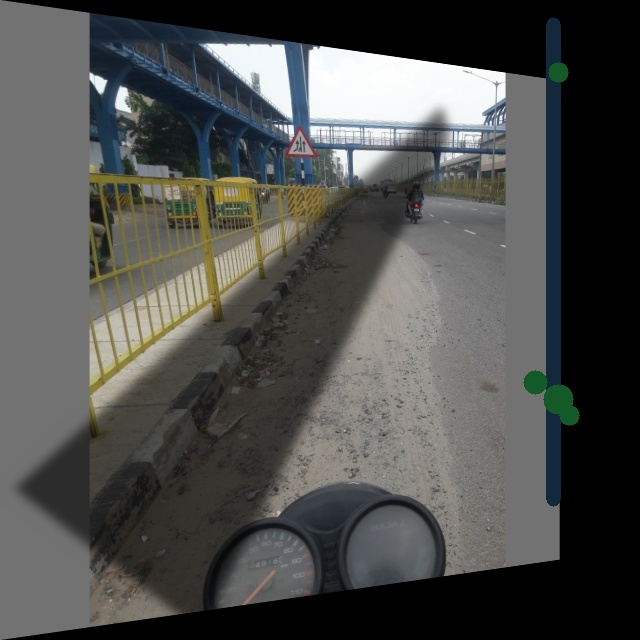Merge_Traffic_Ahead: (281, 116, 319, 162)
